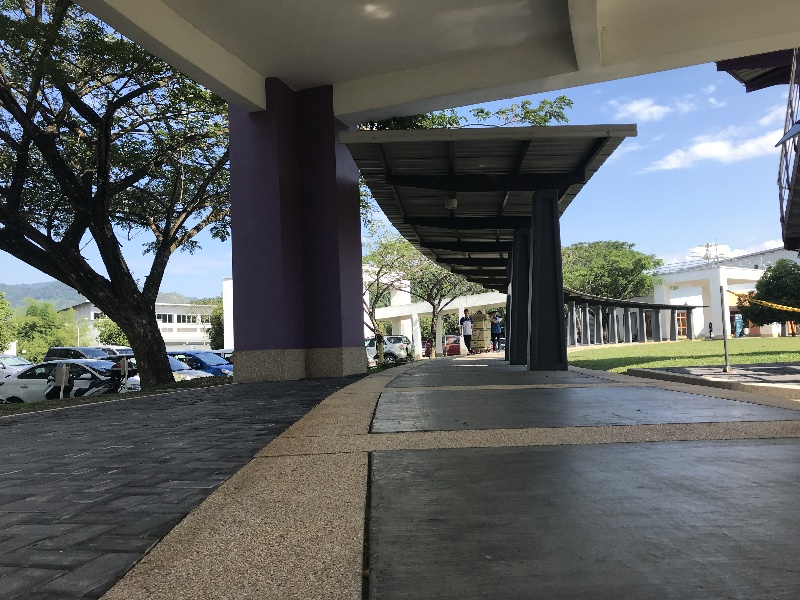Block D corridor: (7, 9, 789, 595)
pillar: (212, 63, 373, 381), (505, 200, 574, 377)
